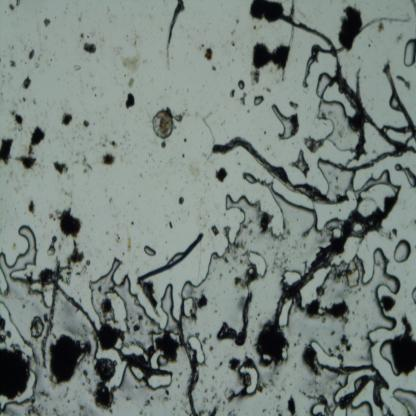Air bubble: (240, 173, 317, 235), (359, 247, 405, 336), (315, 71, 362, 154), (88, 258, 144, 324), (0, 223, 40, 297), (221, 195, 266, 254), (180, 249, 222, 300), (318, 154, 357, 199), (300, 264, 332, 312), (0, 300, 30, 350), (356, 170, 397, 200), (160, 282, 180, 336), (312, 339, 342, 369), (272, 103, 295, 141), (238, 358, 260, 397), (378, 338, 398, 374), (392, 387, 416, 416), (246, 249, 269, 278), (187, 332, 206, 365), (394, 163, 416, 188), (392, 238, 412, 263), (146, 373, 172, 391), (293, 148, 309, 177), (304, 135, 326, 154), (302, 55, 314, 89), (345, 402, 373, 416), (403, 38, 416, 68), (282, 268, 300, 288), (154, 353, 171, 369), (183, 296, 195, 318), (310, 402, 327, 416), (131, 366, 144, 383), (389, 94, 399, 112), (253, 94, 264, 107), (411, 286, 416, 306), (237, 79, 244, 90)
Background material: (320, 139, 416, 168), (50, 334, 92, 388), (0, 343, 31, 398), (255, 321, 287, 366), (394, 318, 416, 378), (304, 299, 351, 327), (339, 2, 364, 50), (252, 43, 288, 73), (96, 323, 130, 352), (56, 207, 83, 241), (247, 0, 283, 23), (152, 106, 175, 140), (94, 356, 118, 388), (91, 384, 117, 409), (344, 259, 362, 291), (27, 126, 46, 155), (200, 113, 216, 146), (234, 267, 258, 288), (122, 52, 144, 71), (0, 312, 13, 344), (30, 314, 46, 340), (258, 208, 273, 235), (69, 240, 82, 271), (0, 137, 14, 164), (272, 249, 288, 272), (223, 383, 239, 406), (331, 265, 350, 283), (15, 155, 37, 170), (60, 110, 78, 126), (382, 292, 396, 312), (213, 165, 229, 182), (396, 72, 411, 90), (193, 294, 208, 312), (80, 154, 93, 174), (128, 339, 146, 353), (248, 68, 262, 86), (227, 240, 245, 254), (52, 161, 70, 175), (256, 379, 274, 393), (41, 271, 56, 287), (102, 152, 118, 166), (228, 356, 242, 372), (241, 354, 254, 371), (301, 388, 319, 400), (47, 237, 59, 255), (287, 395, 297, 416), (341, 334, 352, 353), (26, 403, 42, 416), (125, 92, 136, 110), (82, 43, 98, 55), (292, 329, 302, 347), (37, 388, 52, 400), (80, 367, 90, 384), (302, 224, 314, 238), (21, 76, 32, 91), (124, 234, 133, 252), (238, 91, 248, 107), (103, 297, 111, 316), (144, 245, 156, 257), (204, 46, 213, 62), (188, 309, 198, 323), (28, 48, 38, 61), (201, 151, 211, 164), (30, 199, 37, 217), (302, 258, 309, 276), (290, 97, 300, 109), (210, 222, 218, 237), (16, 112, 23, 129), (244, 374, 252, 388), (226, 408, 240, 416), (211, 393, 221, 404), (174, 111, 184, 122), (210, 404, 219, 416), (144, 396, 153, 408), (62, 189, 74, 198), (42, 16, 51, 28), (114, 230, 121, 245), (177, 195, 185, 207), (130, 323, 140, 332), (81, 119, 90, 129), (214, 360, 222, 371), (132, 32, 138, 46), (8, 0, 15, 12), (201, 396, 210, 405), (230, 253, 238, 263), (138, 406, 146, 416), (73, 64, 83, 72), (76, 404, 86, 412), (391, 226, 398, 237), (8, 108, 16, 117), (47, 212, 56, 220), (335, 344, 342, 354), (128, 77, 134, 88), (198, 408, 206, 416), (136, 312, 144, 320), (9, 60, 17, 68), (264, 86, 273, 93), (330, 327, 336, 337), (318, 287, 324, 297), (52, 406, 58, 416), (378, 22, 384, 32), (354, 287, 362, 294), (111, 140, 118, 148), (274, 393, 281, 401), (300, 241, 307, 249), (132, 383, 140, 390), (270, 376, 275, 387), (63, 386, 68, 397), (230, 88, 235, 99), (229, 265, 235, 274), (274, 367, 280, 376), (104, 132, 110, 141), (79, 31, 85, 40), (211, 63, 217, 72), (223, 257, 230, 264), (162, 396, 170, 402), (124, 396, 132, 402), (234, 16, 240, 24), (344, 288, 352, 294), (397, 32, 402, 41), (230, 27, 235, 36), (129, 219, 135, 226), (31, 98, 36, 106), (209, 345, 214, 353), (277, 406, 281, 416), (168, 220, 173, 228), (78, 11, 81, 24), (164, 390, 170, 396), (8, 172, 14, 178), (160, 142, 166, 148), (202, 337, 207, 344), (38, 52, 42, 60), (183, 135, 187, 143), (200, 43, 204, 51), (110, 196, 114, 204), (74, 160, 80, 165), (262, 408, 268, 413), (34, 62, 39, 68), (181, 152, 186, 158), (246, 108, 252, 113), (194, 332, 199, 338), (16, 0, 21, 6), (209, 333, 213, 340), (254, 24, 258, 31), (294, 361, 297, 370), (282, 386, 286, 392), (77, 152, 81, 158), (219, 273, 223, 279), (22, 96, 26, 102), (66, 400, 72, 404), (240, 260, 245, 264), (44, 35, 48, 40), (173, 125, 177, 130), (106, 230, 110, 235), (101, 142, 105, 147), (123, 136, 127, 141), (109, 409, 113, 414), (144, 159, 148, 164), (356, 300, 359, 306), (138, 192, 141, 198), (232, 40, 235, 46), (139, 172, 142, 178), (184, 180, 188, 184), (72, 136, 76, 140), (86, 35, 90, 39), (205, 388, 209, 392), (214, 309, 218, 313), (340, 356, 344, 360), (24, 60, 27, 65), (86, 360, 89, 365), (352, 310, 355, 315), (332, 288, 335, 293), (49, 57, 52, 62), (148, 152, 151, 157), (222, 401, 225, 405), (179, 372, 182, 376), (289, 382, 292, 386), (24, 47, 27, 51), (178, 217, 181, 221), (211, 376, 214, 380), (93, 122, 96, 126), (89, 131, 91, 137), (0, 57, 2, 62), (124, 252, 126, 257), (178, 384, 180, 388), (173, 407, 175, 411), (200, 216, 202, 220), (94, 93, 96, 97), (77, 136, 79, 139), (12, 46, 14, 49)
Cellulose filter fibre: (275, 194, 397, 326), (212, 134, 348, 204), (311, 352, 390, 416), (310, 14, 406, 54), (58, 284, 99, 362), (41, 259, 64, 368), (178, 317, 200, 416), (385, 60, 416, 130), (218, 292, 254, 348), (114, 346, 175, 378), (352, 69, 370, 158), (164, 0, 186, 71), (281, 0, 296, 81), (140, 278, 158, 316), (383, 121, 416, 134), (409, 0, 416, 13)
Cotton: (138, 230, 203, 280)
